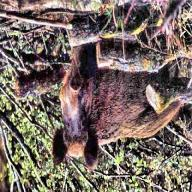boar: (51, 34, 192, 178)
